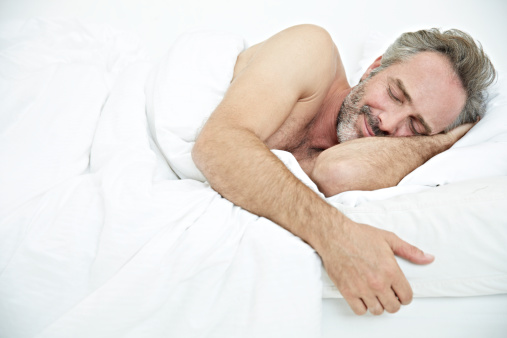deitado: (140, 5, 500, 330)
